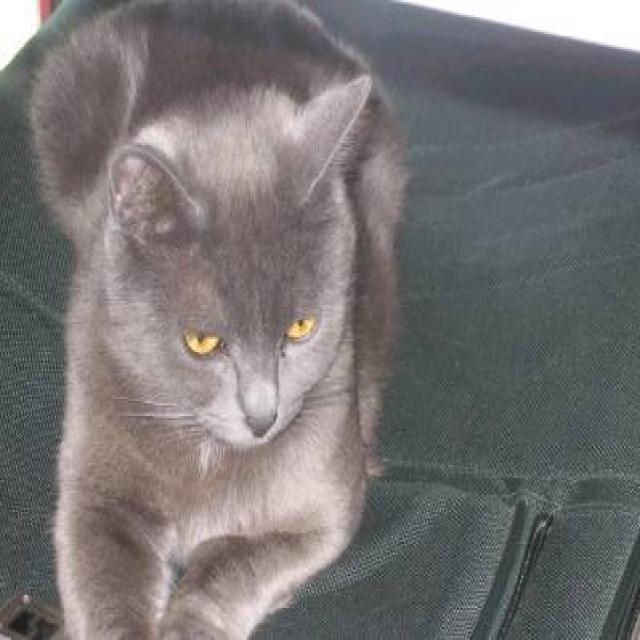Cat: (107, 57, 374, 459)
